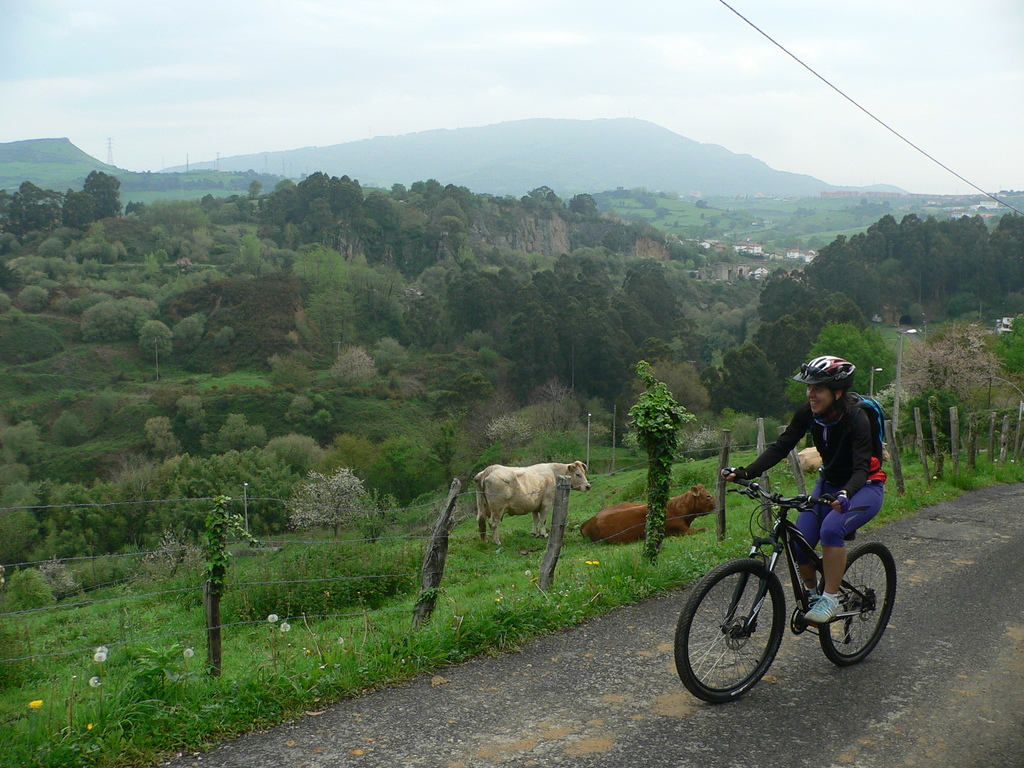Tree: (0, 164, 895, 767), (806, 210, 1023, 328)
